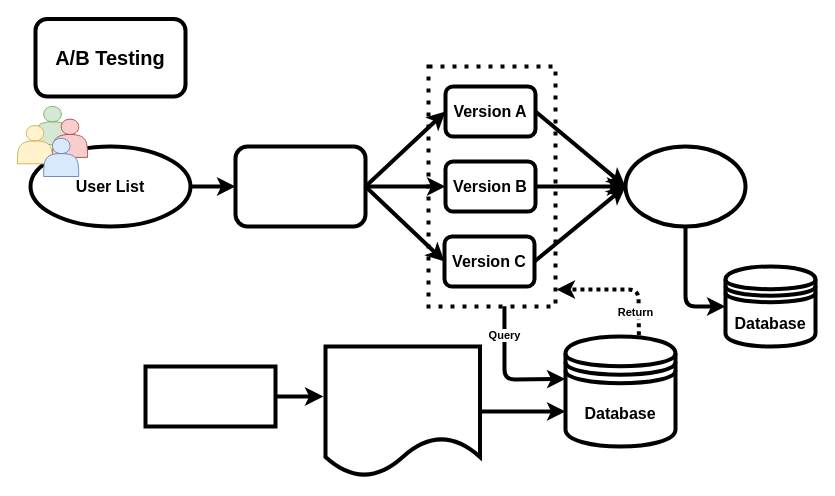
Image size: 835x496. Some labels were removed from this diagram. Here are the shapes that lost their labels. From the top down, the centre of each, then its label:
At [300,186]: "Dispatcher".
At [685,186]: "Result".
At [210,396]: "Model".
